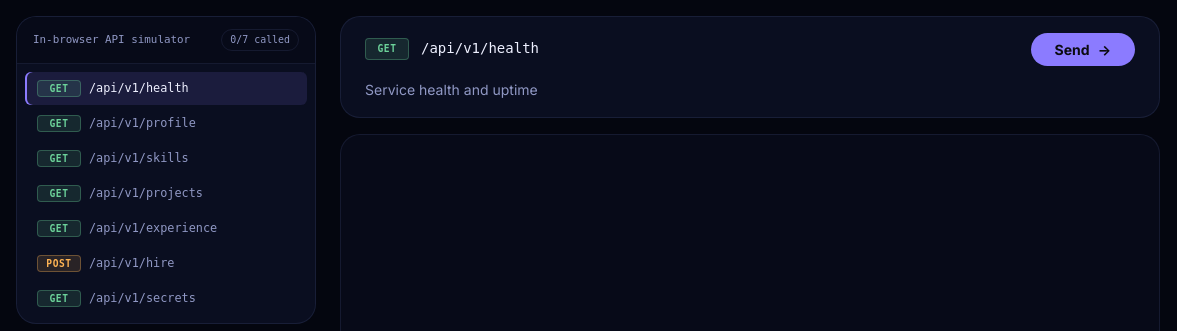
Scenario: switching endpoints discards an in-flight response and allows a new request
Click the button "Send →" at (1083, 49), box [1031,32,1135,66]
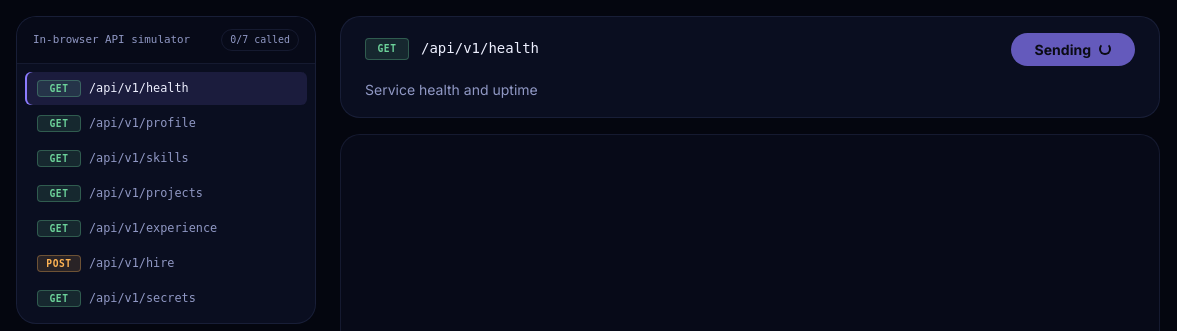
Click the button "GET /api/v1/profile" at (166, 123), box [25,107,307,140]
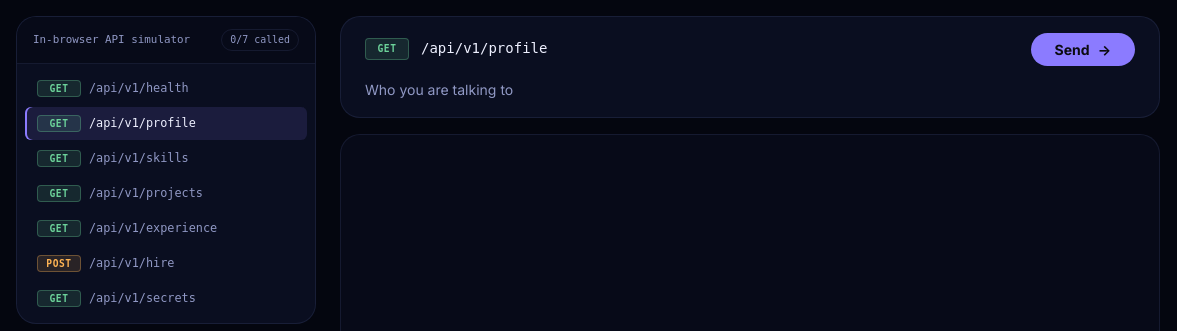
Expected: the button "Send →" is enabled
Click the button "Send →" at (1083, 49), box [1031,32,1135,66]
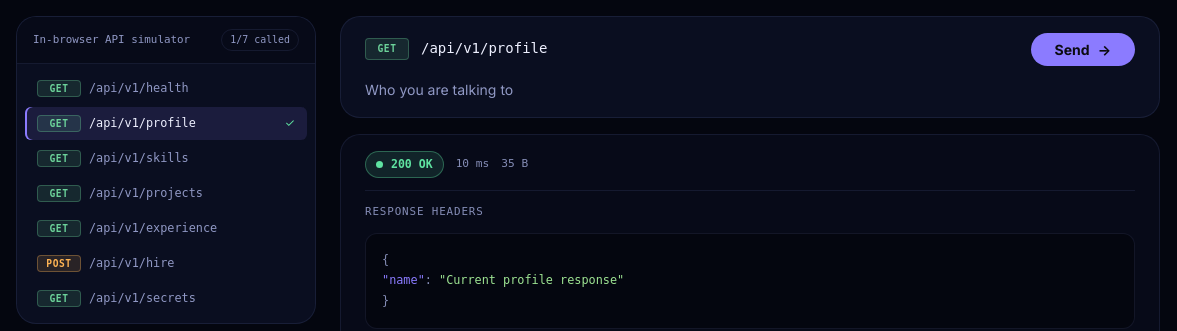
Expected: the text "\"Current profile response\"" is shown, [439,273,624,287]
